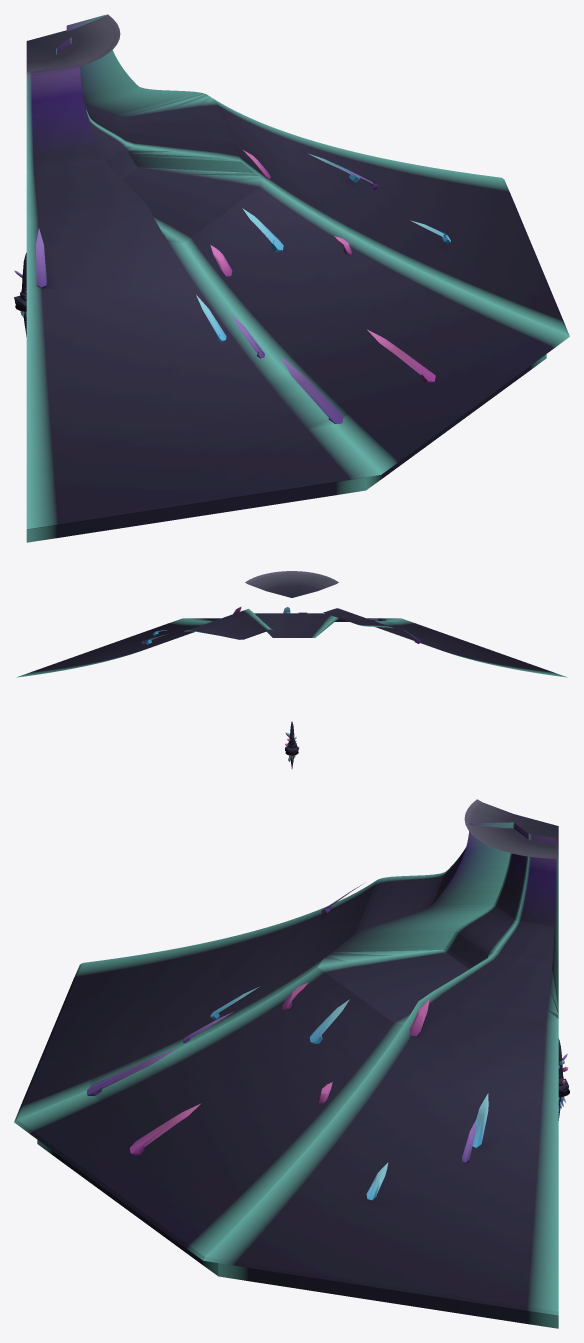
File: caverns-s1-BG3KwjLd.glb
3 views of the same model, one above another, from view 1: azimuth 30°, elevation 25°; view 2: azimuth 150°, elevation 25°; view 3: azimuth 270°, elevation 25° (orthographic). The views are drawn at different scales.
Visible parts, largest first — view 1: sc_landmark_2; view 2: sc_landmark_2; view 3: sc_landmark_2.
Part boxes in pixels (x1,y1,x2,y2): sc_landmark_2: (26,14,569,542); sc_landmark_2: (16,571,567,677); sc_landmark_2: (14,799,558,1328).
Bounding box in the file's own units: 644 × 261 × 432.
